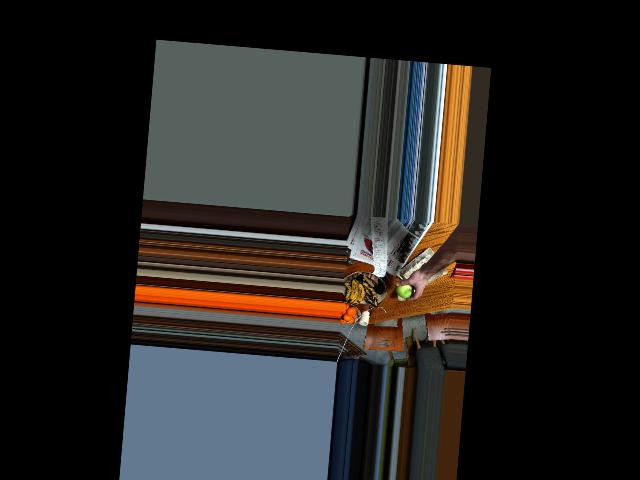apple: (395, 281, 419, 300)
